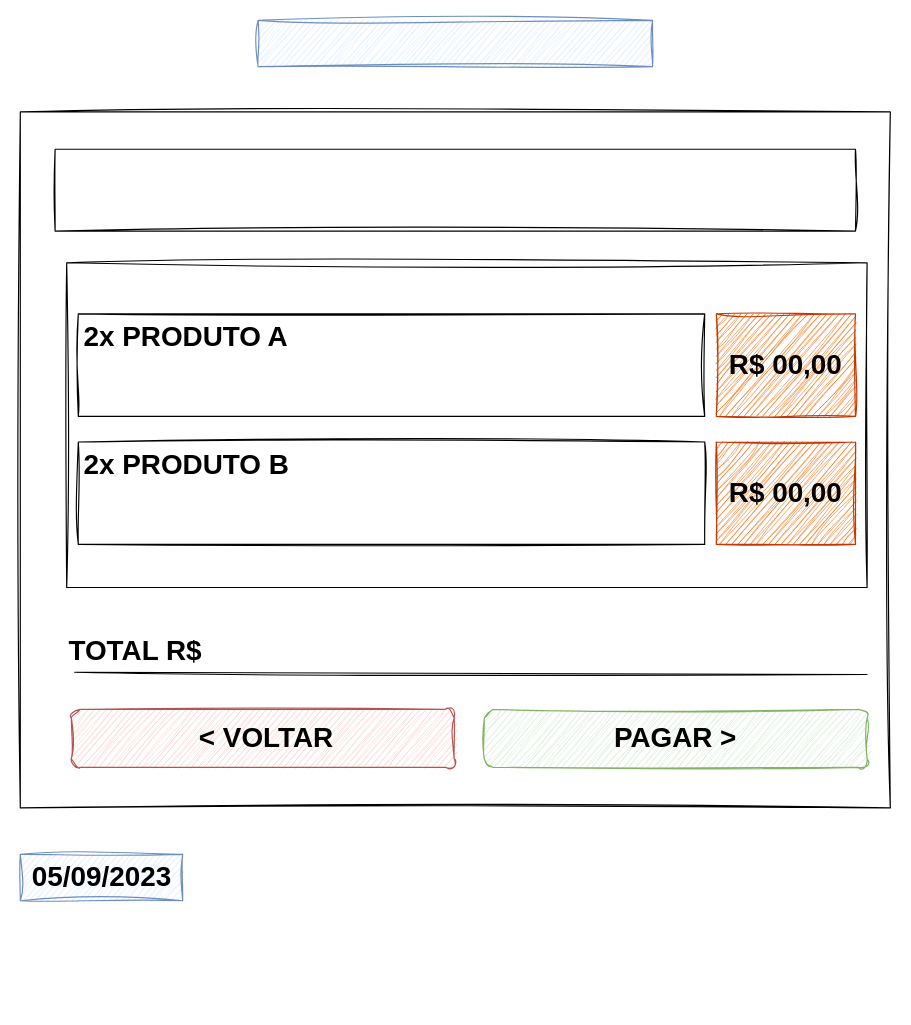
Some shapes in this 911 by 1025 pixel diagram are drawn without their labels. Here are the shapes that lost their labels. From the top down, the box of each, then its label:
(257, 19, 652, 67): Confirmação de pagamento
(54, 148, 855, 231): MEU CARRINHO
